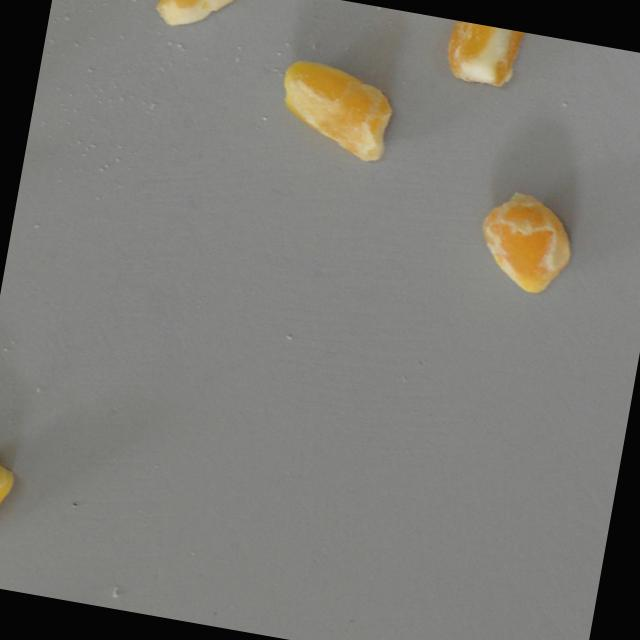dañado: (268, 51, 402, 167), (464, 179, 586, 303), (437, 18, 533, 96), (142, 0, 274, 44), (0, 445, 23, 570)
